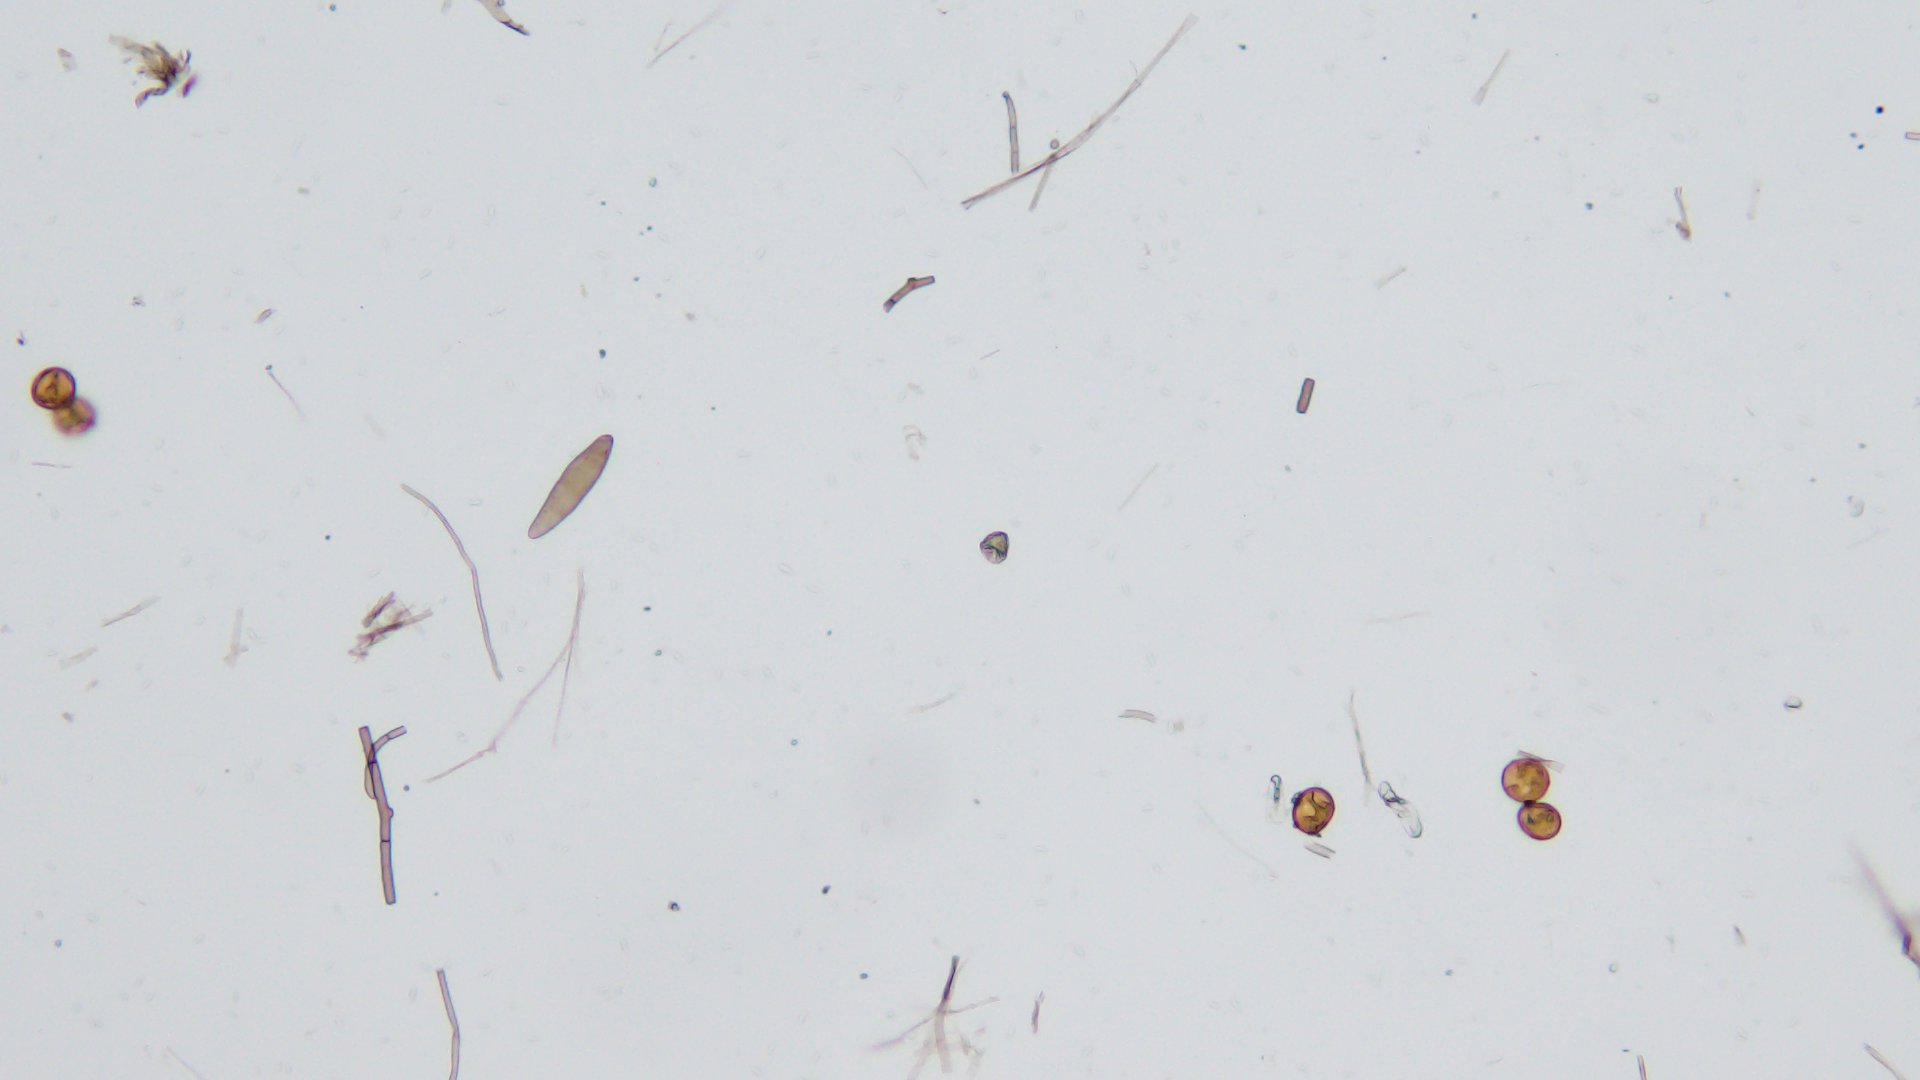dbb_spore: (524, 433, 615, 541)
xb_spore: (1501, 760, 1552, 803), (1288, 787, 1332, 833), (1513, 803, 1565, 840), (30, 365, 75, 407), (55, 398, 94, 435)
